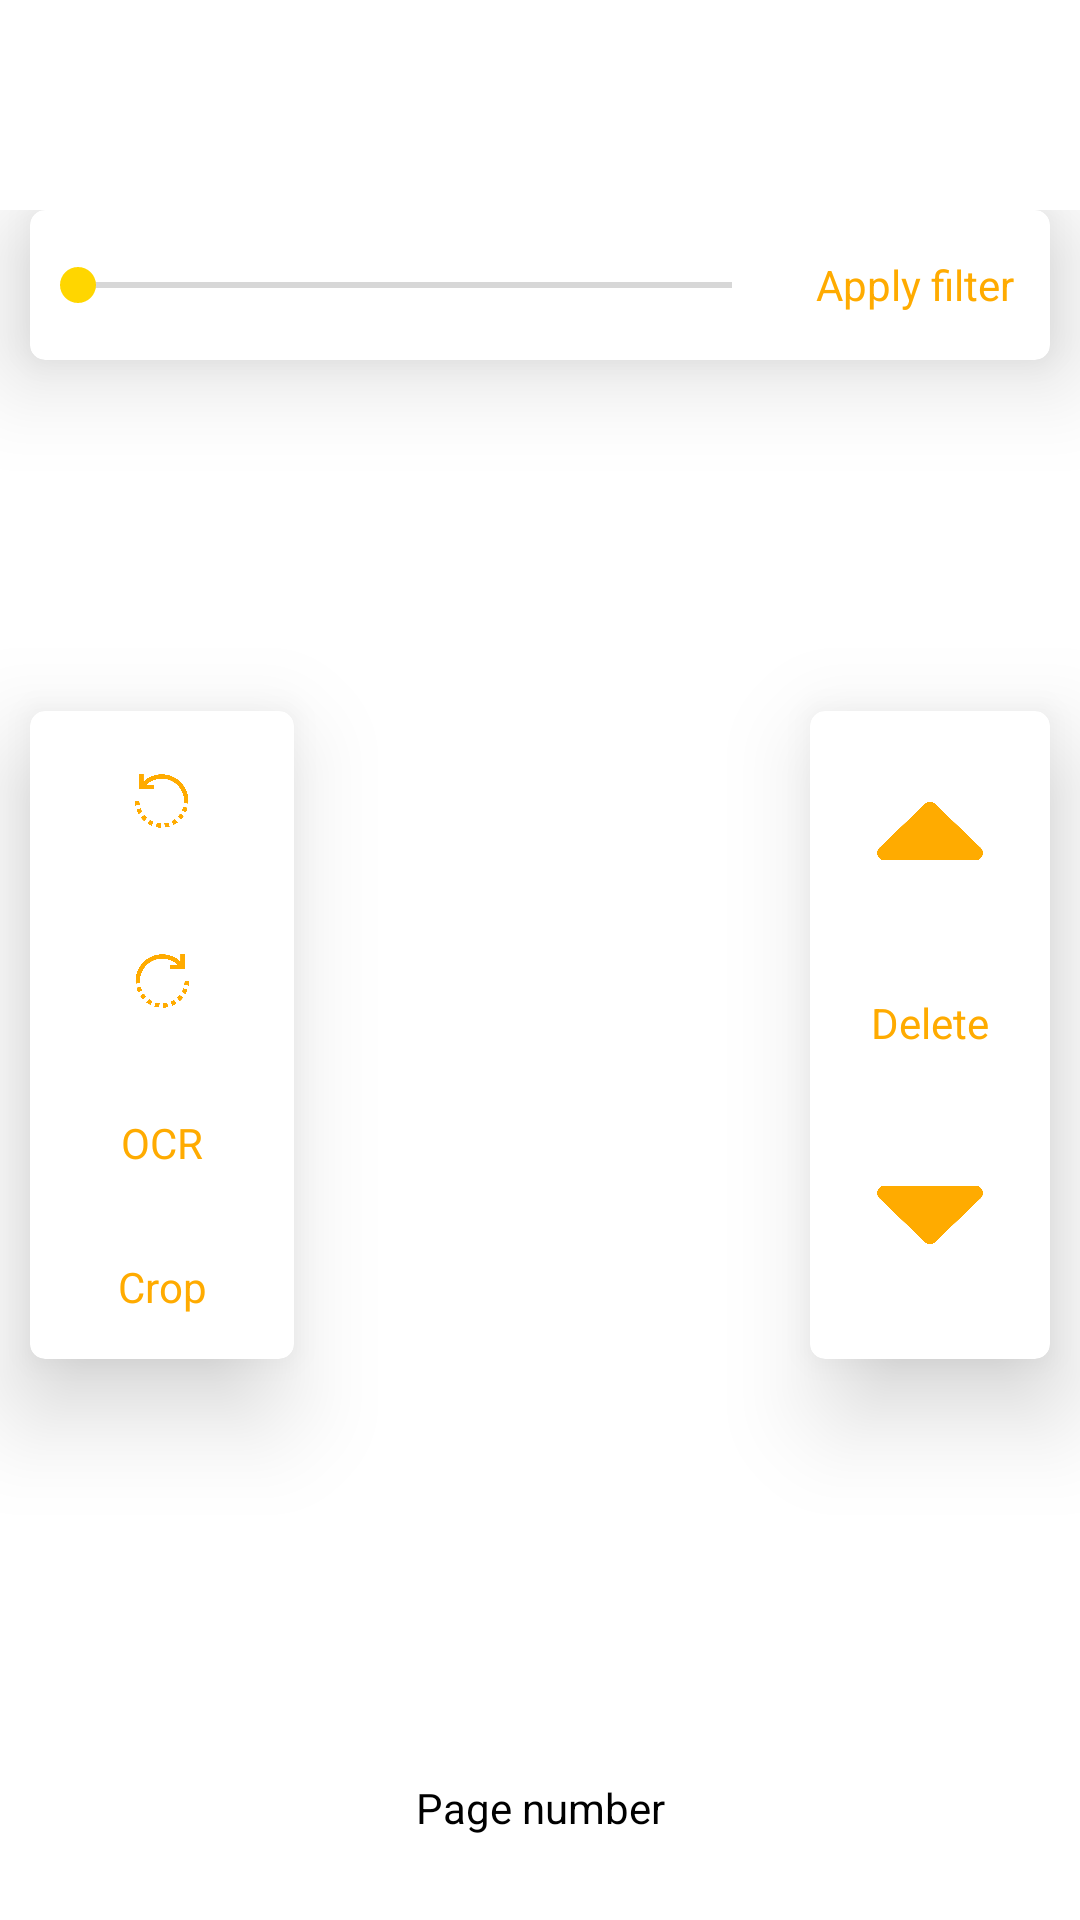

Where to tap for icons on this 1080 × 1920 app screen, as point (x, y):
reorddown: point (930, 1215)
reordup: point (930, 831)
rotatebackic: point (161, 801)
rotateic: point (162, 981)
